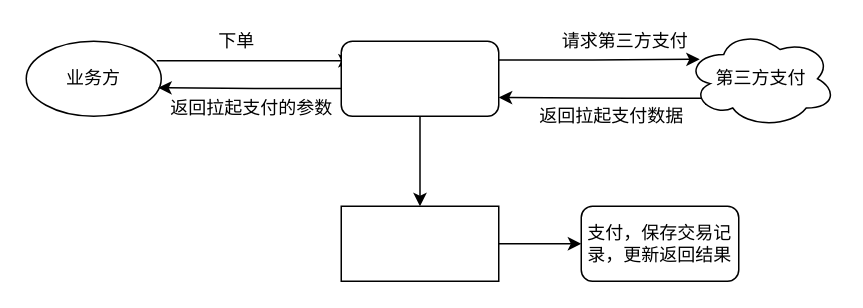
This 863x308 diagram has some shape labels left out. The box of each missing label's shape, as (x1, y1, x2, y2) in pixels:
MQ: (340, 205, 499, 281)
支付，检验参数: (340, 40, 499, 116)
